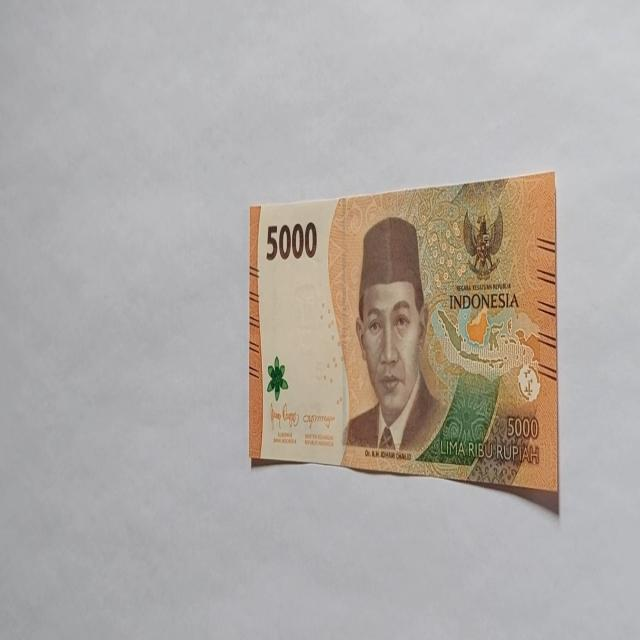lima ribu rupiah: (247, 170, 558, 510), (340, 214, 448, 458)
